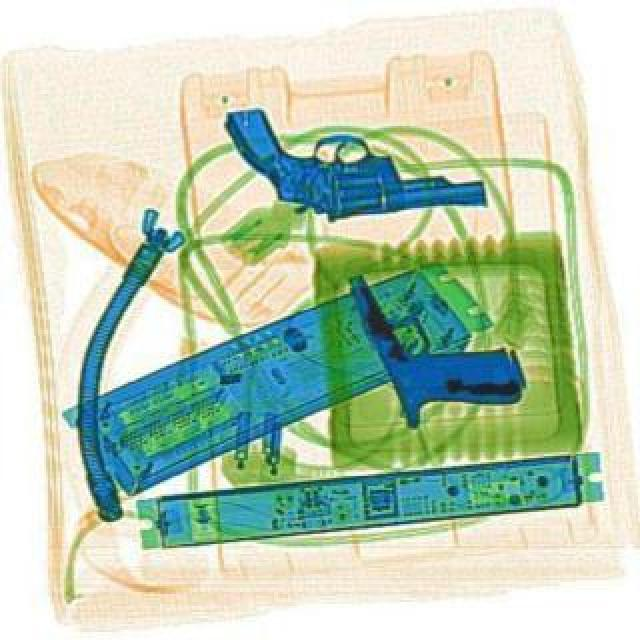gun: (336, 234, 526, 442), (224, 90, 484, 226)
